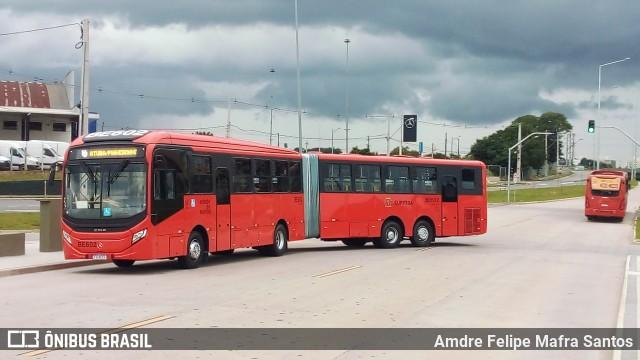ATUBA PINHEIRINHO: (87, 148, 139, 160)
